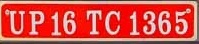character: (27, 9, 44, 35), (8, 10, 25, 35), (86, 9, 102, 34), (105, 10, 120, 34), (62, 9, 75, 34), (175, 10, 188, 35), (157, 10, 171, 33), (142, 10, 155, 34), (128, 10, 140, 35), (50, 11, 61, 35)
